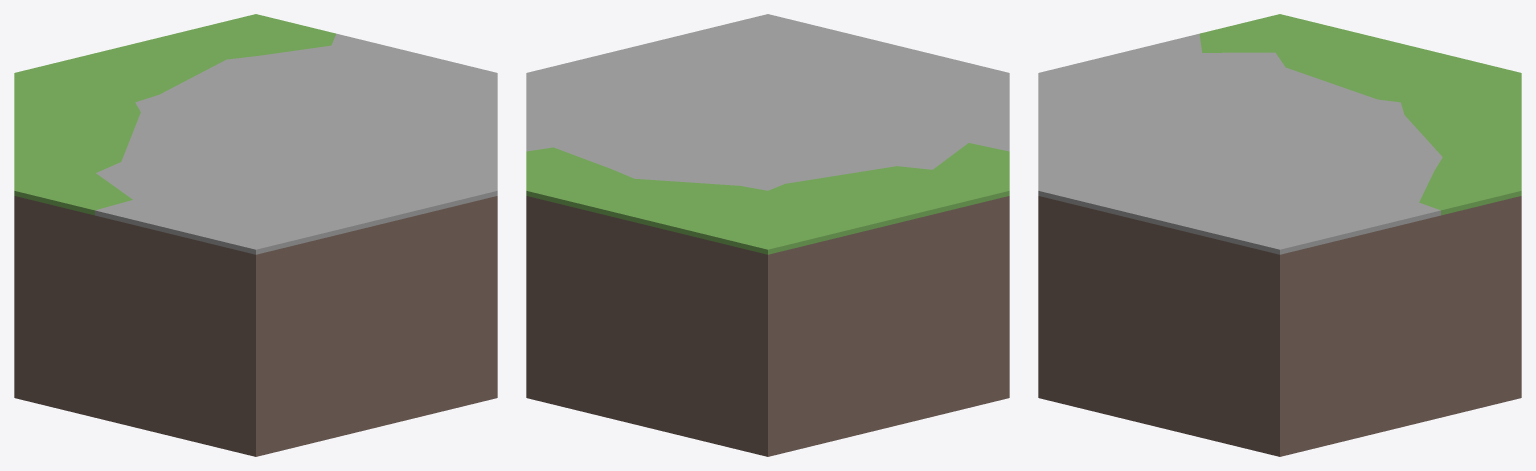
Rendered from tile2m2.fbx.
3 renders of one model, left to right at view 1: azimuth 30°, elevation 25°; view 2: azimuth 150°, elevation 25°; view 3: azimuth 270°, elevation 25°, orthographic.
Visible parts, largest first — view 1: Tile21; view 2: Tile21; view 3: Tile21.
Part boxes in pixels (bbox=[...]): Tile21: bbox=[14, 14, 497, 456]; Tile21: bbox=[526, 14, 1009, 456]; Tile21: bbox=[1038, 14, 1521, 456].
Size of the model in its own units: 2 by 0.82 by 1.73.
